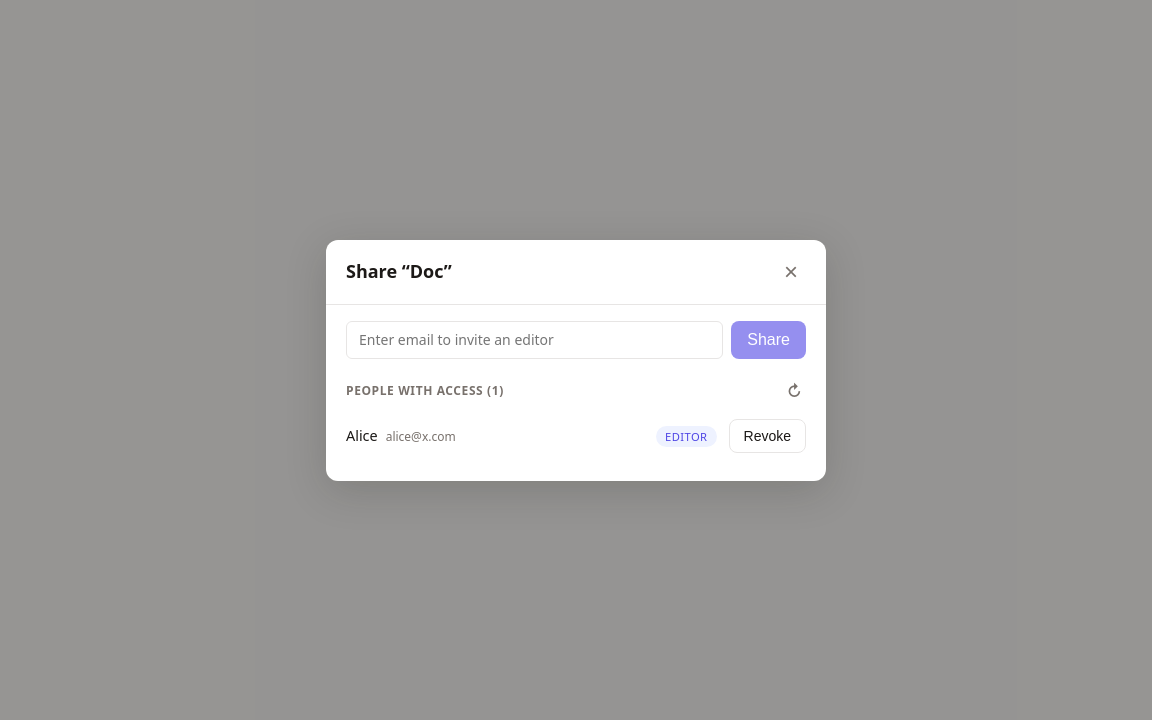
Test: ShareModal › revokes a share and re-fetches the list (showing empty)
expect the text "Alice" is shown: met, box [346,424,378,446]
Step 1. Click the button with aria-label "Revoke access for alice@x.com" → (767, 436), box [728,418,806,452]
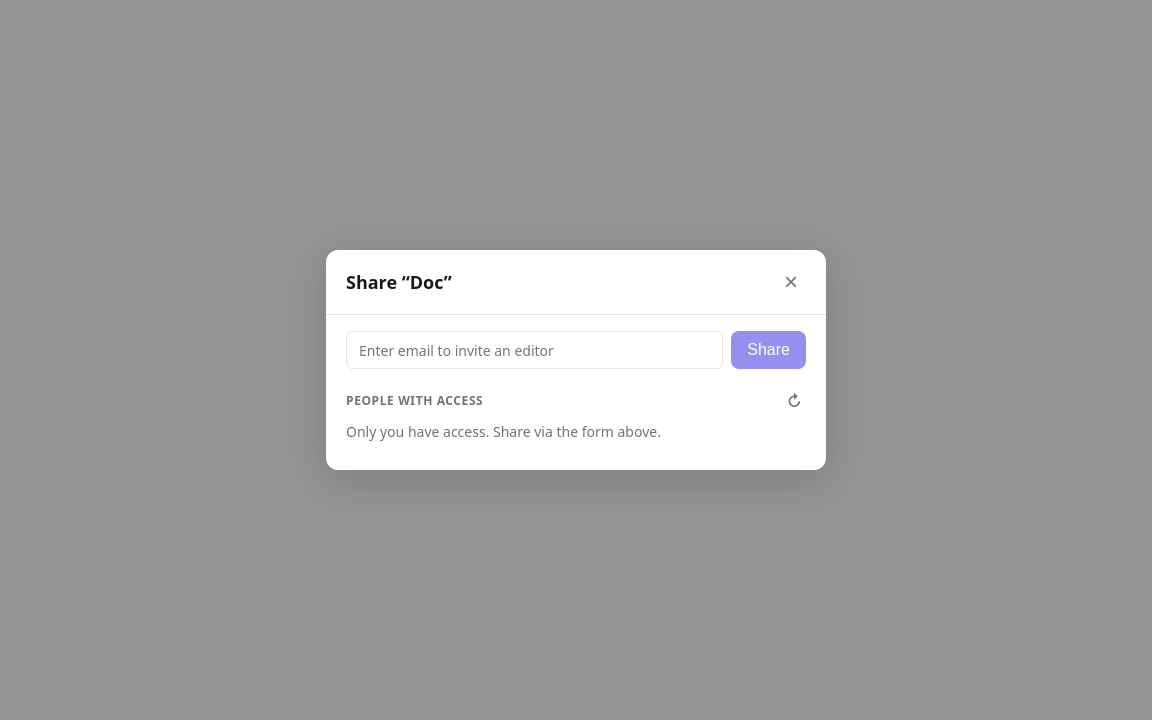
expect the text "Alice" is gone: met
